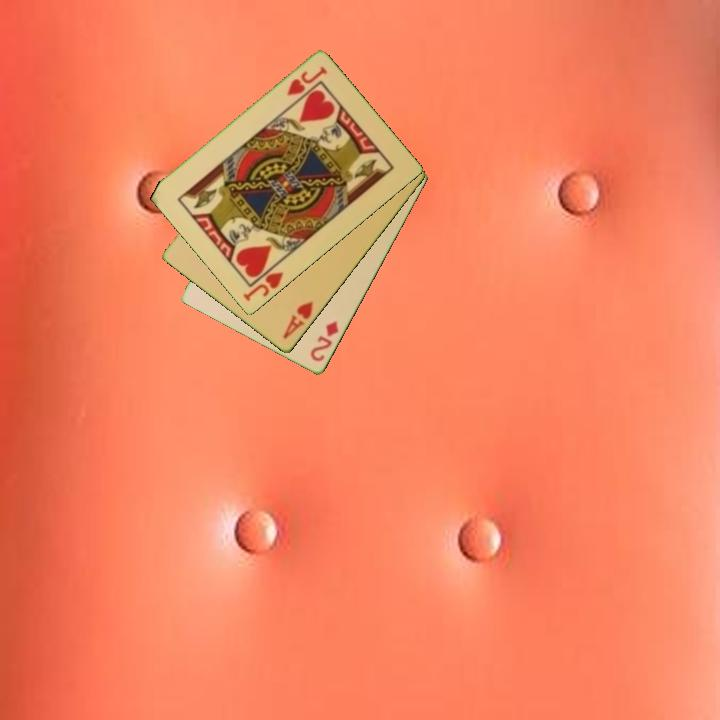2d: (307, 318, 342, 365)
Ah: (279, 298, 316, 342)
Jh: (239, 269, 286, 305), (283, 63, 330, 99)
